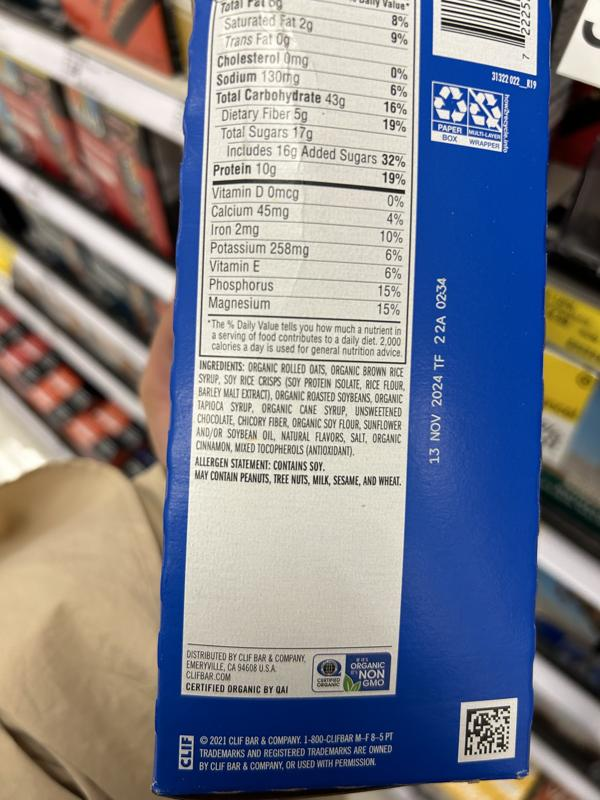ingredients: (195, 357, 406, 457)
